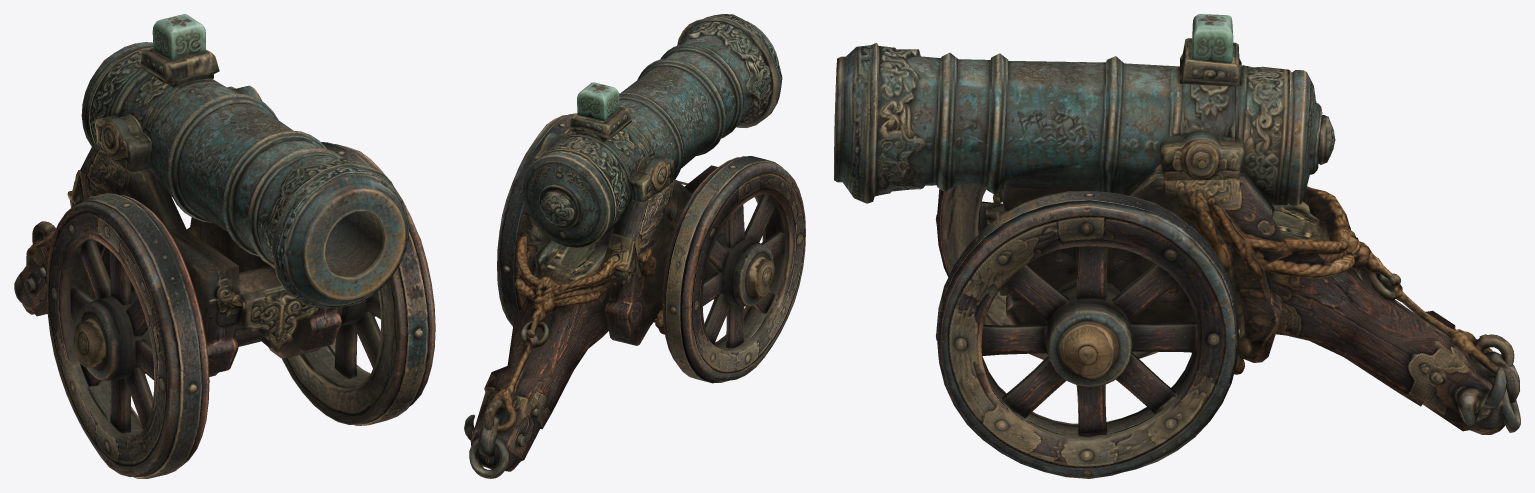
The model's file is cannon-antique.glb.
The picture shows the model from 3 angles, left to right: view 1: azimuth 30°, elevation 25°; view 2: azimuth 150°, elevation 25°; view 3: azimuth 270°, elevation 25°; orthographic projection. The views are drawn at different scales.
Visible parts, largest first — view 1: tripo_8b71cac4_3271_4367_b19f_ff77740530e0; view 2: tripo_8b71cac4_3271_4367_b19f_ff77740530e0; view 3: tripo_8b71cac4_3271_4367_b19f_ff77740530e0.
Part boxes in pixels (x1,y1,x2,y2): tripo_8b71cac4_3271_4367_b19f_ff77740530e0: (14, 14, 435, 478); tripo_8b71cac4_3271_4367_b19f_ff77740530e0: (464, 14, 805, 478); tripo_8b71cac4_3271_4367_b19f_ff77740530e0: (834, 14, 1520, 478).
Size of the model in its own units: 0.5444 by 0.6577 by 0.9995.
1 material, 1 textured.
